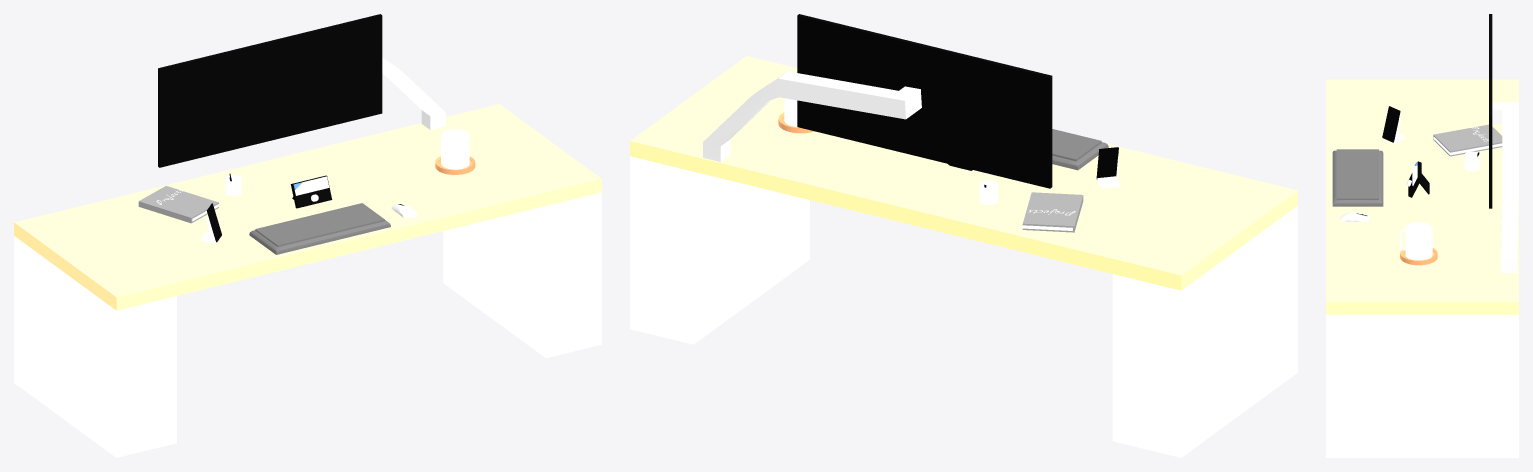
Rendered from desk.gltf.
3 views of the same model, side by side, from view 1: azimuth 30°, elevation 25°; view 2: azimuth 150°, elevation 25°; view 3: azimuth 270°, elevation 25° (orthographic). The views are drawn at different scales.
Parts seen in each view (by area): view 1: Tabletop, DeskLegs, Monitor, Keyboard, Notebook, MonitorArm, Cup; view 2: DeskLegs, Tabletop, Monitor, MonitorArm, Notebook, Keyboard; view 3: Tabletop, DeskLegs, MonitorArm, Keyboard, Notebook, Cup, Monitor, Phone, Macropad, PenHolder, CupHolder, Mouse (+1 smaller).
Part boxes in pixels (box(x1,y1,x2,y2)): Tabletop: box(14, 104, 601, 310); DeskLegs: box(14, 192, 601, 457); Monitor: box(158, 14, 382, 167); Keyboard: box(249, 203, 390, 254); Notebook: box(138, 186, 218, 223); MonitorArm: box(382, 58, 445, 129); Cup: box(441, 129, 469, 169); DeskLegs: box(630, 156, 1297, 457); Tabletop: box(630, 56, 1297, 290); Monitor: box(797, 14, 1052, 188); MonitorArm: box(703, 71, 921, 161); Notebook: box(1022, 192, 1083, 232); Keyboard: box(1052, 129, 1108, 170); Tabletop: box(1326, 79, 1518, 314); DeskLegs: box(1326, 314, 1518, 457); MonitorArm: box(1492, 102, 1518, 272); Keyboard: box(1332, 149, 1383, 206); Notebook: box(1433, 124, 1502, 156); Cup: box(1399, 222, 1432, 260); Monitor: box(1489, 14, 1492, 208); Phone: box(1382, 106, 1400, 142); Macropad: box(1408, 161, 1429, 197); PenHolder: box(1464, 151, 1479, 171); CupHolder: box(1400, 247, 1437, 265); Mouse: box(1340, 212, 1369, 221).
Bounding box in the file's own units: 4.36 × 2.56 × 1.59.
